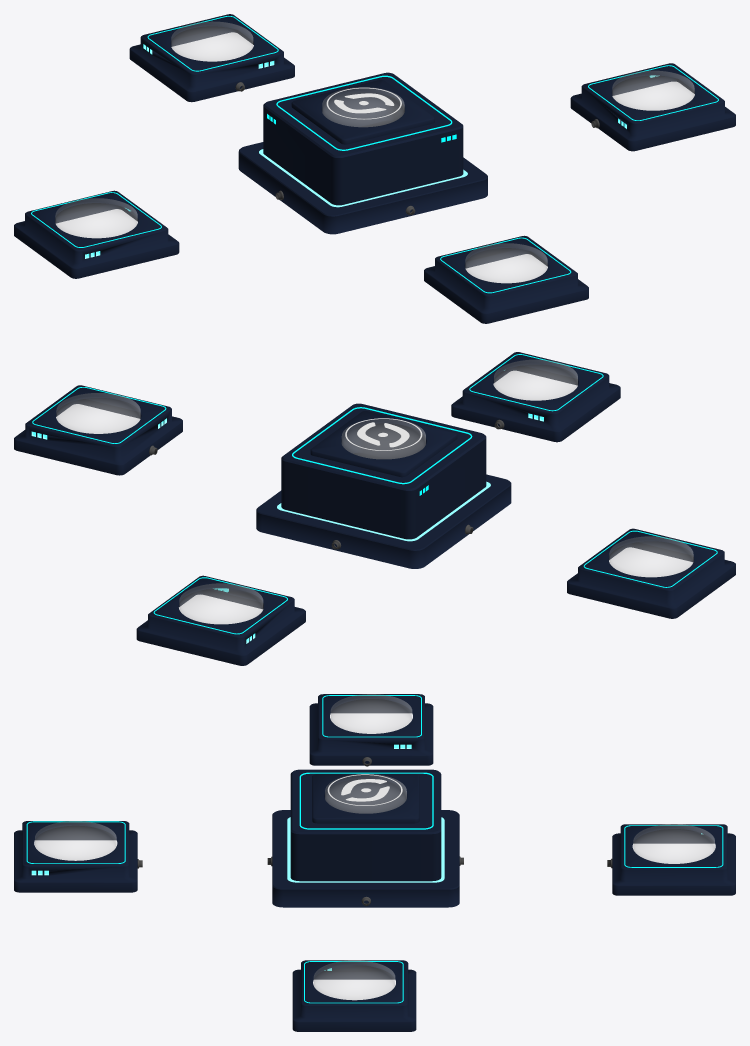
File: Test_for_blender(8).glb
3 renders of one model, top to bottom at view 1: azimuth 30°, elevation 25°; view 2: azimuth 150°, elevation 25°; view 3: azimuth 270°, elevation 25°, orthographic. The views are drawn at different scales.
Parts seen in each view (by area): view 1: Platform, Platformm_2.001, Platformm_2.004, Platformm_2.003, Platform_2.002, Platformm_2, Glass.001, Glass.004, Glass.003, Glass.002, Glass, Decal (+1 smaller); view 2: Platform, Platform_2.002, Platformm_2.001, Platformm_2.004, Platformm_2.003, Platformm_2, Glass.001, Glass.003, Glass.002, Glass.004, Glass, Decal (+1 smaller); view 3: Platform, Platformm_2.004, Platform_2.002, Platformm_2.003, Platformm_2.001, Platformm_2, Glass.004, Glass.002, Glass.003, Glass.001, Glass, Decal (+1 smaller).
Part boxes in pixels (x1,y1,x2,y2): Platform: (238, 72, 487, 234); Platformm_2.001: (14, 190, 179, 278); Platformm_2.004: (424, 235, 588, 323); Platformm_2.003: (570, 63, 735, 151); Platform_2.002: (129, 14, 294, 102); Platformm_2: (291, 79, 434, 144); Glass.001: (55, 198, 137, 237); Glass.004: (465, 243, 547, 282); Glass.003: (612, 71, 694, 110); Glass.002: (171, 21, 252, 61); Glass: (322, 87, 404, 126); Decal: (326, 87, 401, 119); Platform: (256, 403, 511, 568); Platform_2.002: (136, 575, 305, 665); Platformm_2.001: (567, 528, 735, 618); Platformm_2.004: (451, 352, 620, 442); Platformm_2.003: (14, 385, 182, 475); Platformm_2: (310, 411, 457, 477); Glass.001: (609, 536, 693, 576); Glass.003: (56, 393, 140, 433); Glass.002: (179, 583, 262, 623); Glass.004: (494, 360, 577, 400); Glass: (342, 419, 425, 458); Decal: (345, 418, 422, 450); Platform: (272, 769, 459, 907); Platformm_2.004: (14, 821, 137, 892); Platform_2.002: (612, 824, 735, 895); Platformm_2.003: (292, 960, 416, 1031); Platformm_2.001: (309, 694, 433, 765); Platformm_2: (312, 774, 419, 823); Glass.004: (35, 821, 116, 860); Glass.002: (633, 824, 714, 863); Glass.003: (314, 960, 394, 999); Glass.001: (331, 694, 411, 733); Glass: (325, 774, 406, 813); Decal: (327, 774, 402, 805).
Size of the model in its own units: 15.48 by 1.77 by 14.83.
7 materials, 1 textured.
